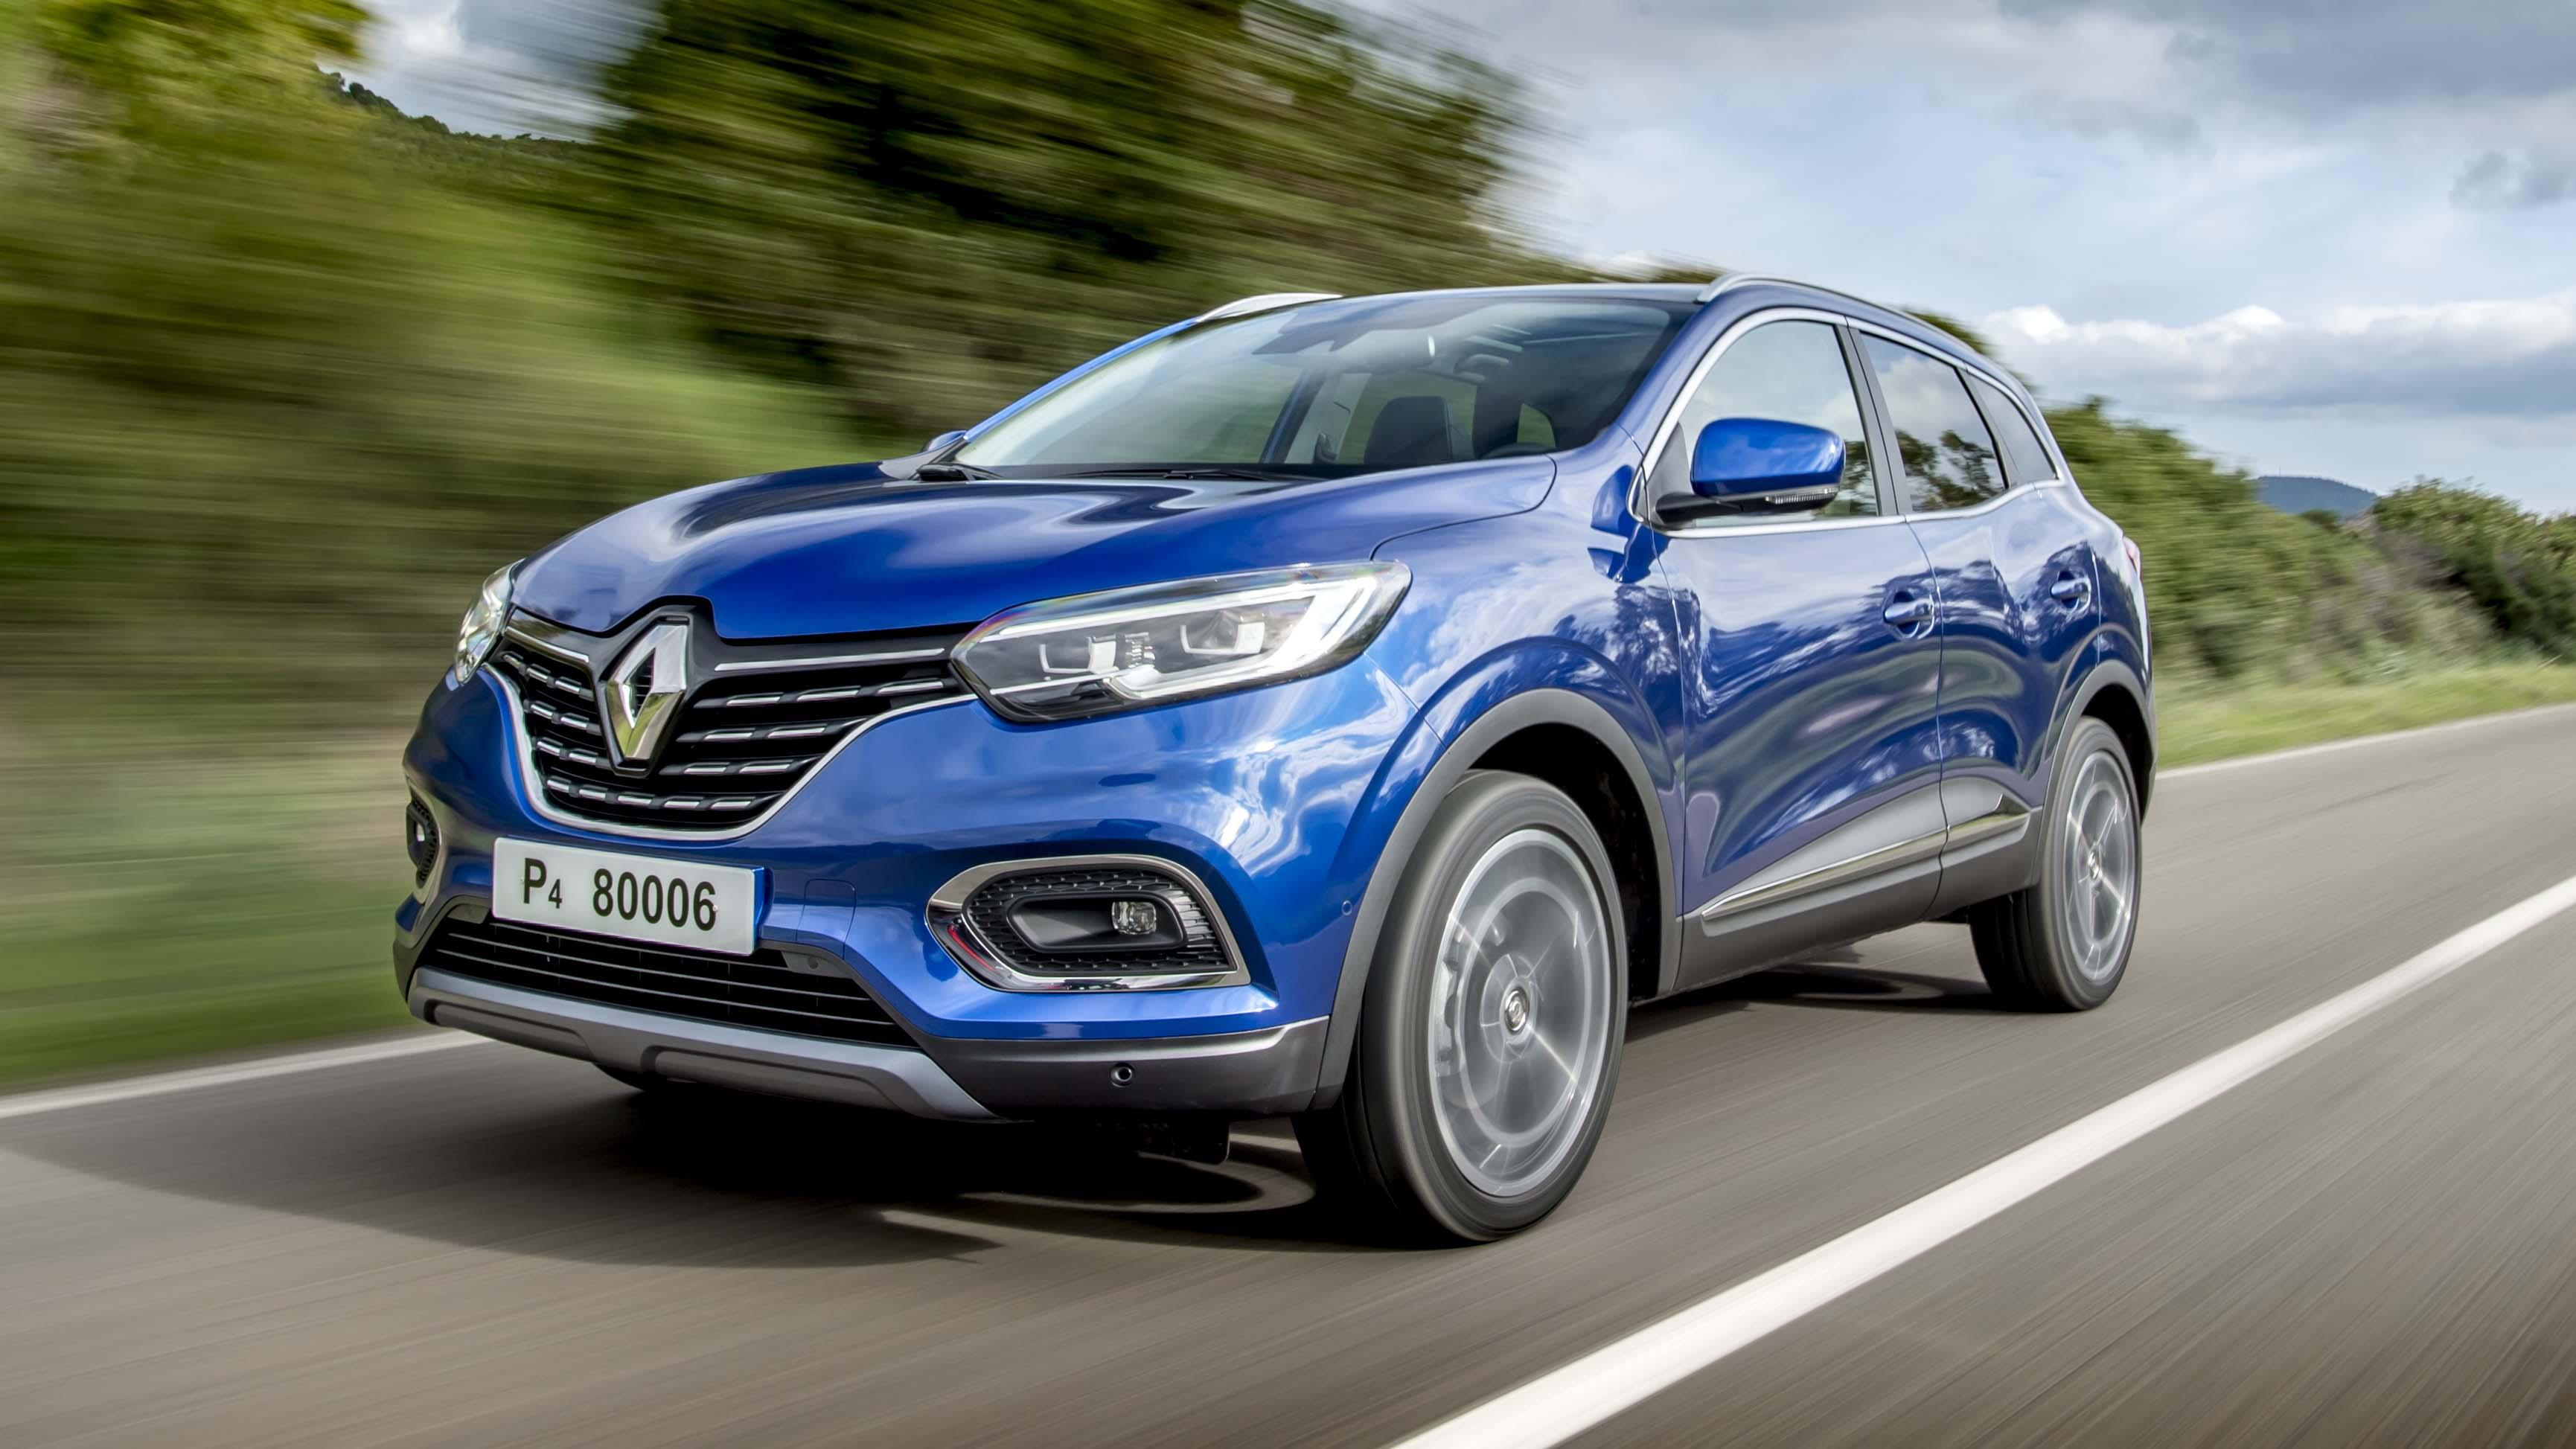Renault: (575, 609, 720, 777)
